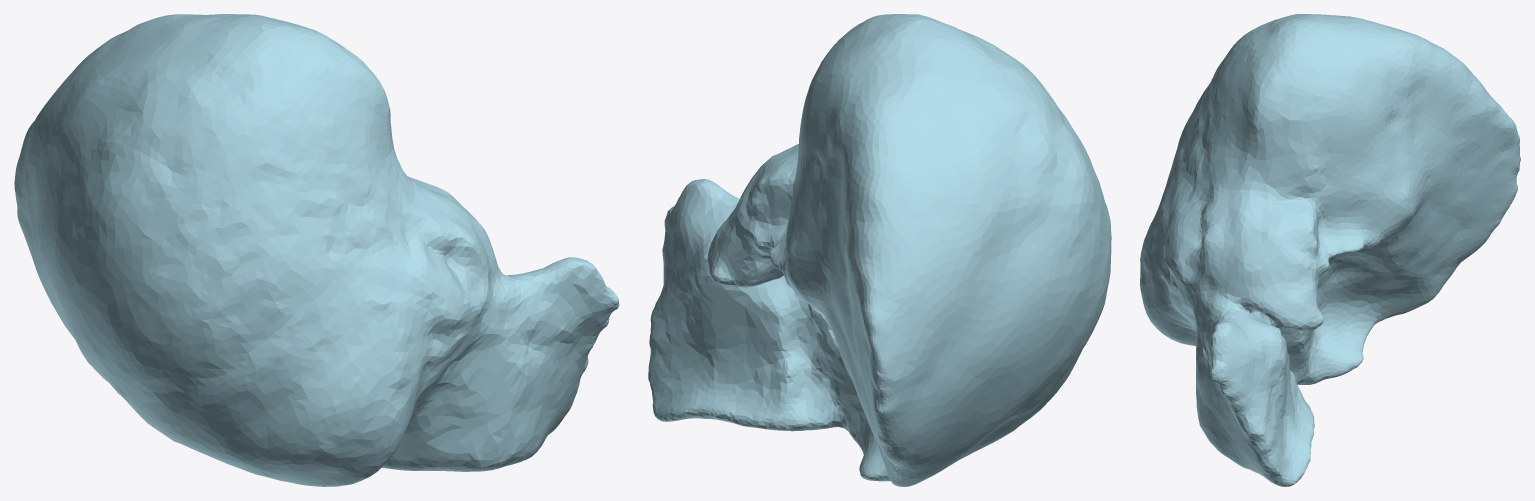
The model's file is liver.obj.
3 views of the same model, side by side, from view 1: azimuth 30°, elevation 25°; view 2: azimuth 150°, elevation 25°; view 3: azimuth 270°, elevation 25° (orthographic). The views are drawn at different scales.
Visible parts, largest first — view 1: grp1; view 2: grp1; view 3: grp1.
Part boxes in pixels (<box>): grp1: <box>14,14,619,486</box>; grp1: <box>648,14,1111,486</box>; grp1: <box>1140,14,1520,486</box>.
Size of the model in its own units: 173 by 162 by 153.
